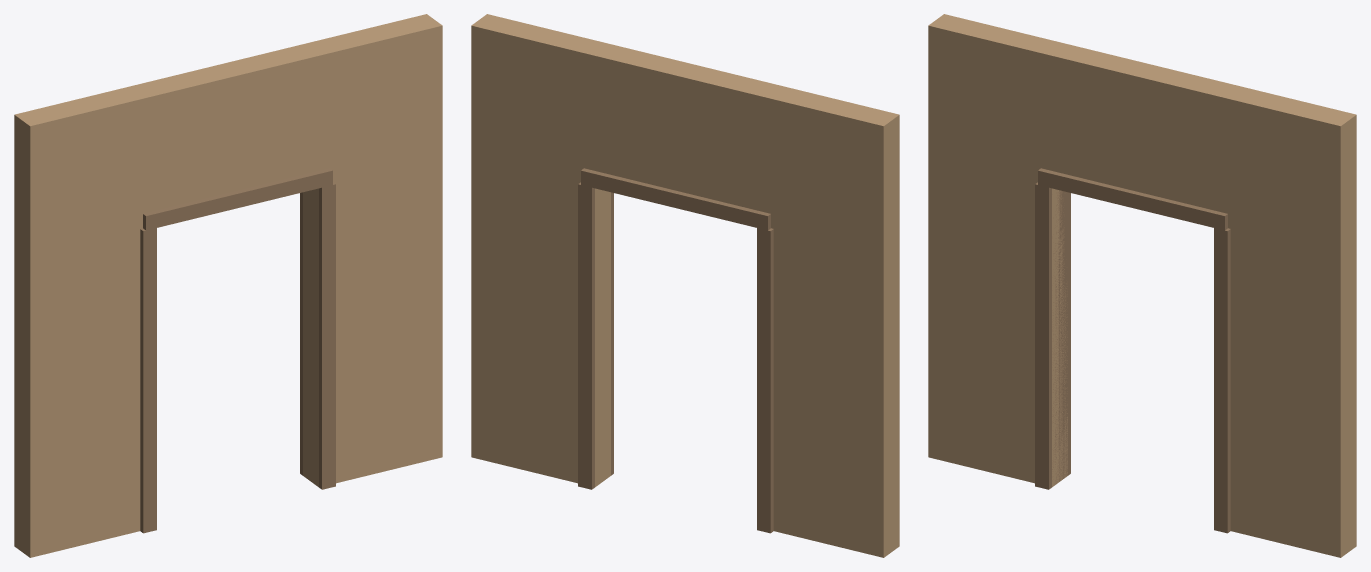
Rendered from doorway.glb.
3 renders of one model, left to right at view 1: azimuth 30°, elevation 25°; view 2: azimuth 150°, elevation 25°; view 3: azimuth 330°, elevation 25°, orthographic.
Parts seen in each view (by area): view 1: doorway; view 2: doorway; view 3: doorway.
Boxes of the visible parts, x1,y1,x2,y2 form: doorway: (14, 14, 442, 557); doorway: (471, 14, 899, 557); doorway: (928, 14, 1356, 557).
Bounding box in the file's own units: 3 × 3 × 0.28.
